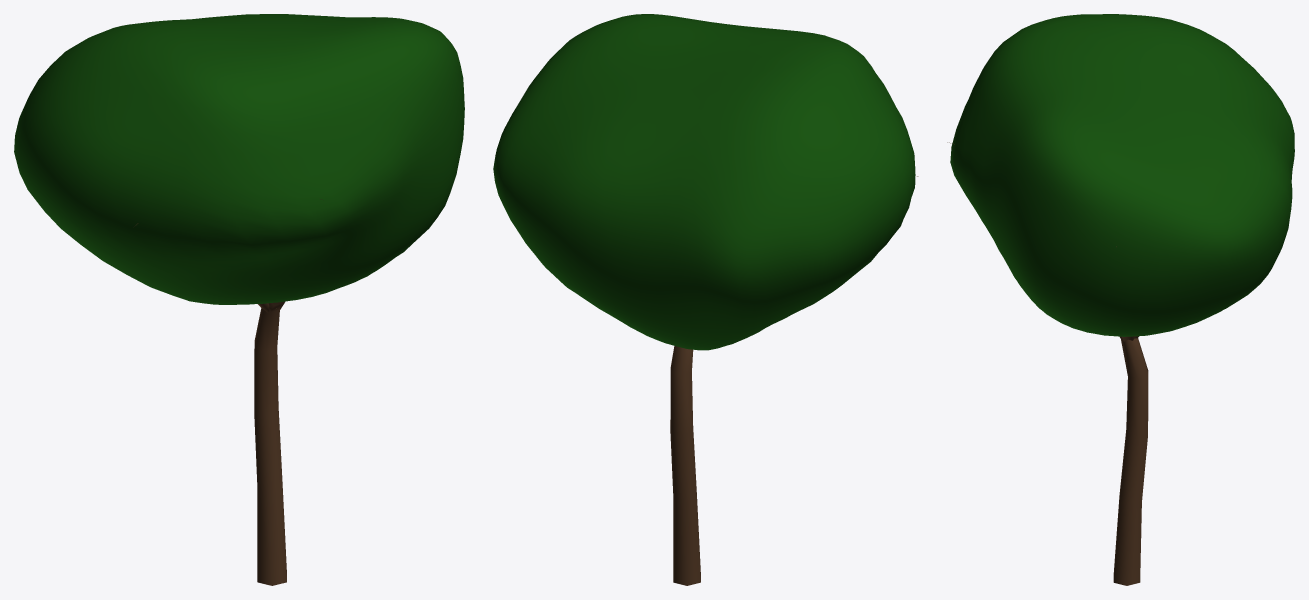
Rendered from Arbre_3.fbx.
The picture shows the model from 3 angles, left to right: view 1: azimuth 30°, elevation 25°; view 2: azimuth 150°, elevation 25°; view 3: azimuth 270°, elevation 25°; orthographic projection. The views are drawn at different scales.
Visible parts, largest first — view 1: Sphere.001, tree..; view 2: Sphere.001, tree..; view 3: Sphere.001, tree...
Part boxes in pixels (box(x1,y1,x2,y2)): Sphere.001: box(14, 14, 464, 304); tree..: box(134, 199, 322, 585); Sphere.001: box(493, 14, 915, 350); tree..: box(670, 176, 918, 585); Sphere.001: box(950, 14, 1294, 336); tree..: box(947, 142, 1148, 585).
Size of the model in its own units: 726 by 975 by 601.
